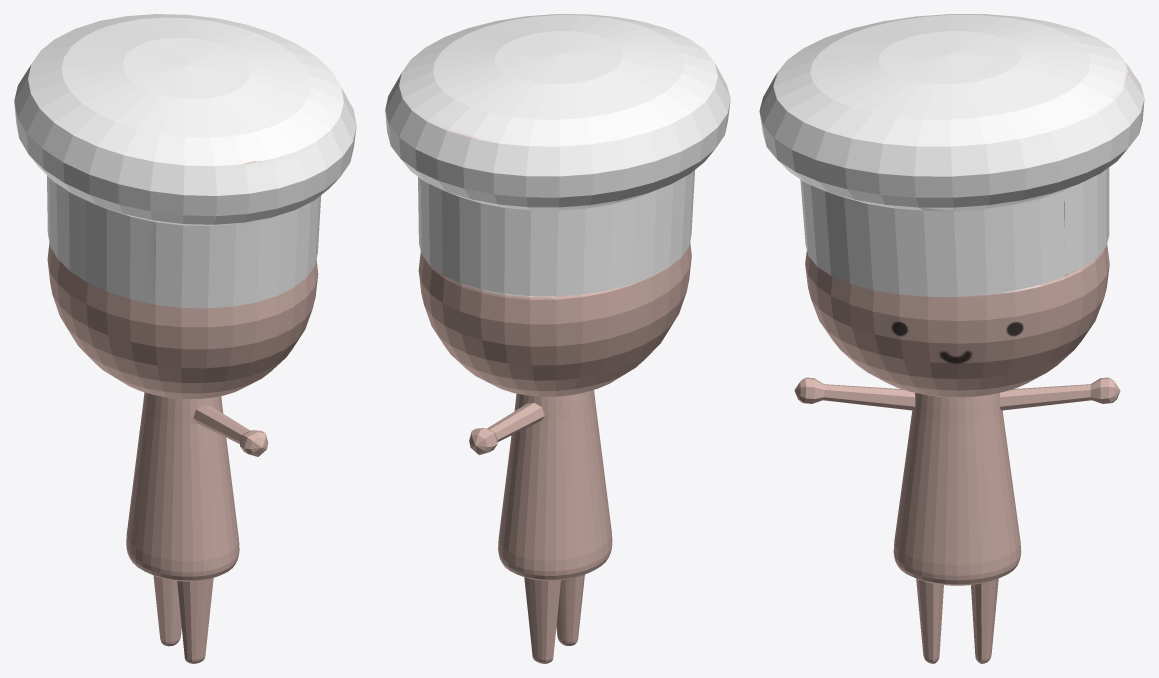
File: chef4.fbx
The picture shows the model from 3 angles, left to right: view 1: azimuth 30°, elevation 25°; view 2: azimuth 150°, elevation 25°; view 3: azimuth 270°, elevation 25°; orthographic projection. The views are drawn at different scales.
Visible parts, largest first — view 1: Sphere; view 2: Sphere; view 3: Sphere.
Part boxes in pixels (x1,y1,x2,y2): Sphere: (14, 14, 356, 663); Sphere: (385, 14, 730, 663); Sphere: (759, 14, 1144, 663).
Size of the model in its own units: 156 by 307 by 177.
1 material, 1 textured.
